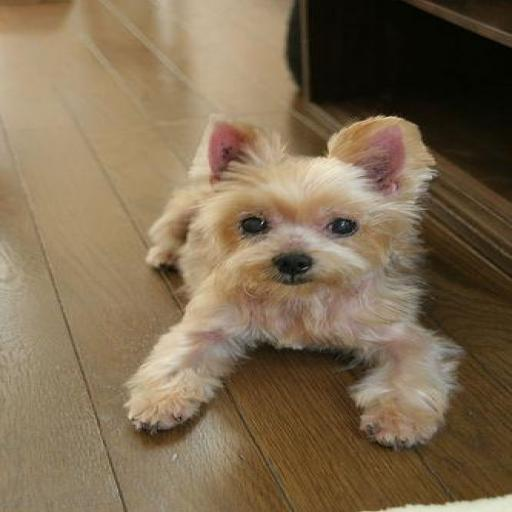dog_face: (190, 118, 417, 298)
